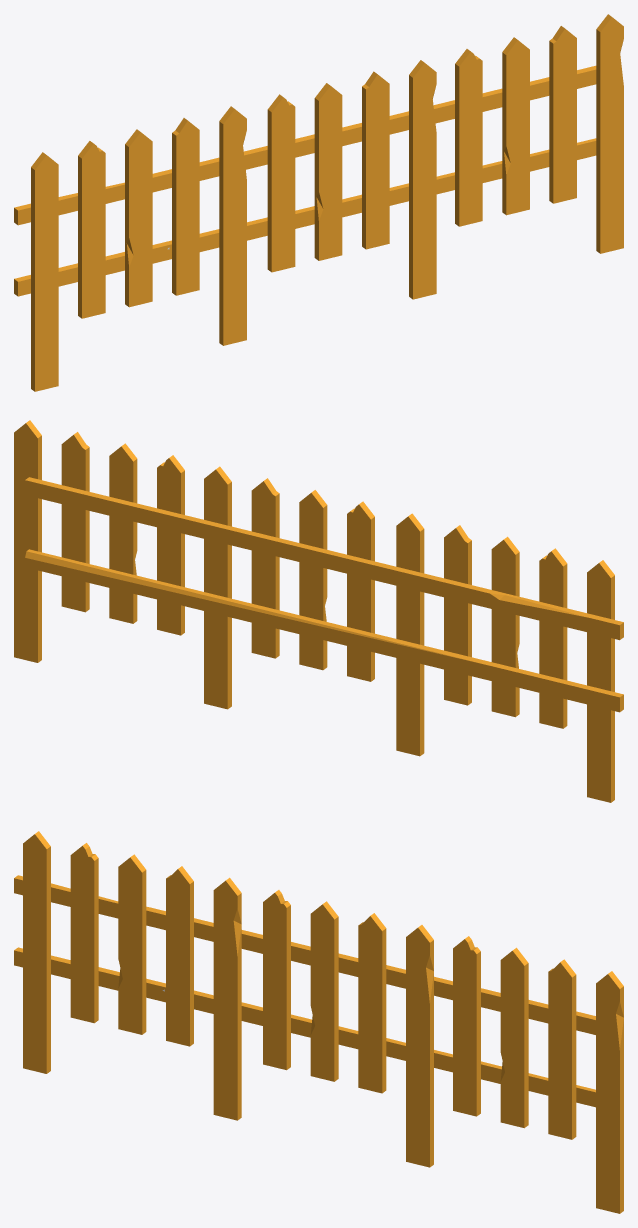
Rendered from low_poly_fence.fbx.
3 renders of one model, top to bottom at view 1: azimuth 30°, elevation 25°; view 2: azimuth 150°, elevation 25°; view 3: azimuth 330°, elevation 25°, orthographic.
Parts seen in each view (by area): view 1: Picket_Fence_.004, Picket_Fence_.011, Picket_Fence_.015, Picket_Fence_.007, Picket_Fence_Top_Bar, Picket_Fence_.009, Picket_Fence_.010, Picket_Fence_Bottom_Bar, Picket_Fence_.002, Picket_Fence_.013, Picket_Fence_.003, Picket_Fence_.014 (+3 smaller); view 2: Picket_Fence_Top_Bar, Picket_Fence_Bottom_Bar, Picket_Fence_.011, Picket_Fence_.015, Picket_Fence_.004, Picket_Fence_.007, Picket_Fence_.003, Picket_Fence_.008, Picket_Fence_.012, Picket_Fence_.002, Picket_Fence_.009, Picket_Fence_.013 (+3 smaller); view 3: Picket_Fence_.015, Picket_Fence_.004, Picket_Fence_.011, Picket_Fence_.007, Picket_Fence_.008, Picket_Fence_.012, Picket_Fence_.003, Picket_Fence_.002, Picket_Fence_.013, Picket_Fence_.009, Picket_Fence_Top_Bar, Picket_Fence_Bottom_Bar (+3 smaller).
Part boxes in pixels (x1,y1,x2,y2): Picket_Fence_.004: (31,152,58,391); Picket_Fence_.011: (596,14,623,253); Picket_Fence_.015: (219,106,246,345); Picket_Fence_.007: (409,60,436,299); Picket_Fence_Top_Bar: (14,65,596,225); Picket_Fence_.009: (314,83,342,260); Picket_Fence_.010: (267,94,295,272); Picket_Fence_Bottom_Bar: (14,138,596,296); Picket_Fence_.002: (125,129,152,307); Picket_Fence_.013: (502,37,529,215); Picket_Fence_.003: (78,141,105,318); Picket_Fence_.014: (455,49,482,226); Picket_Fence_Top_Bar: (25,477,623,640); Picket_Fence_Bottom_Bar: (25,549,623,712); Picket_Fence_.011: (14,420,41,662); Picket_Fence_.015: (396,513,424,756); Picket_Fence_.004: (587,560,614,802); Picket_Fence_.007: (204,466,231,709); Picket_Fence_.003: (539,548,567,728); Picket_Fence_.008: (251,478,279,658); Picket_Fence_.012: (61,432,89,612); Picket_Fence_.002: (491,536,519,717); Picket_Fence_.009: (299,490,327,670); Picket_Fence_.013: (109,443,137,623); Picket_Fence_.015: (213,877,241,1120); Picket_Fence_.004: (23,831,50,1073); Picket_Fence_.011: (596,971,623,1213); Picket_Fence_.007: (406,925,433,1167); Picket_Fence_.008: (358,913,386,1093); Picket_Fence_.012: (548,959,576,1139); Picket_Fence_.003: (70,843,98,1023); Picket_Fence_.002: (118,854,146,1034); Picket_Fence_.013: (500,947,528,1128); Picket_Fence_.009: (310,901,338,1081); Picket_Fence_Top_Bar: (14,875,595,1034); Picket_Fence_Bottom_Bar: (14,947,595,1107).
Size of the model in its own units: 256 by 94.99 by 6.
